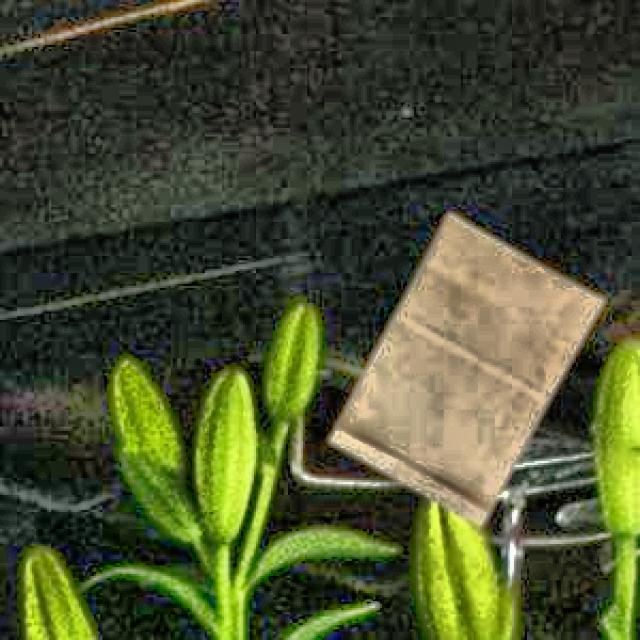Paper-bag: (313, 206, 616, 540)
